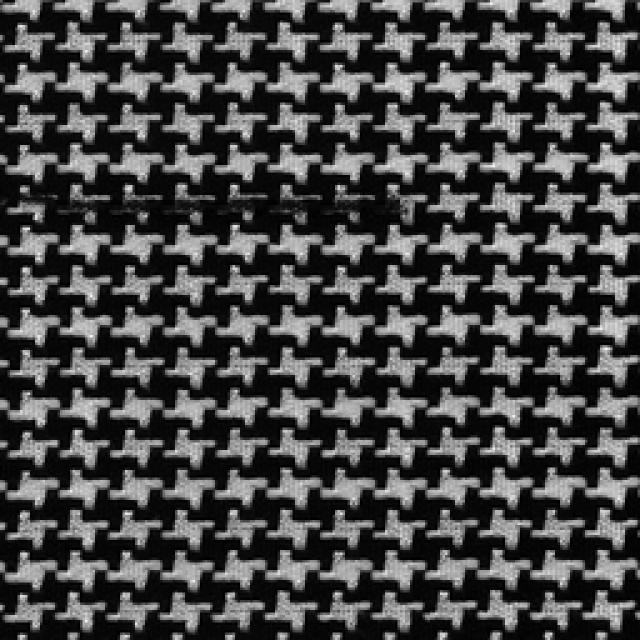defect: (41, 173, 392, 227)
